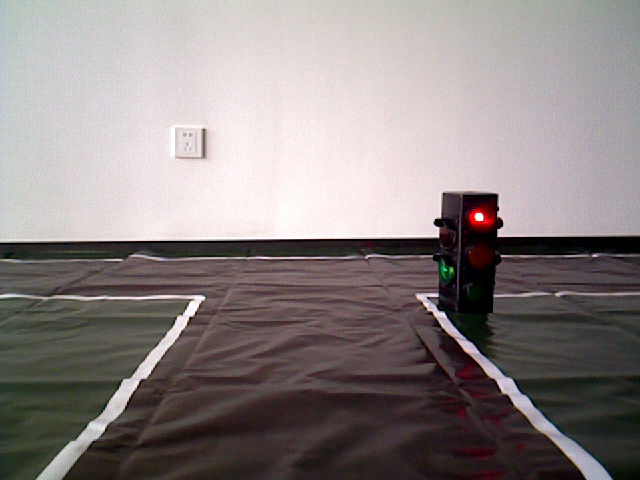red: (444, 193, 492, 319)
